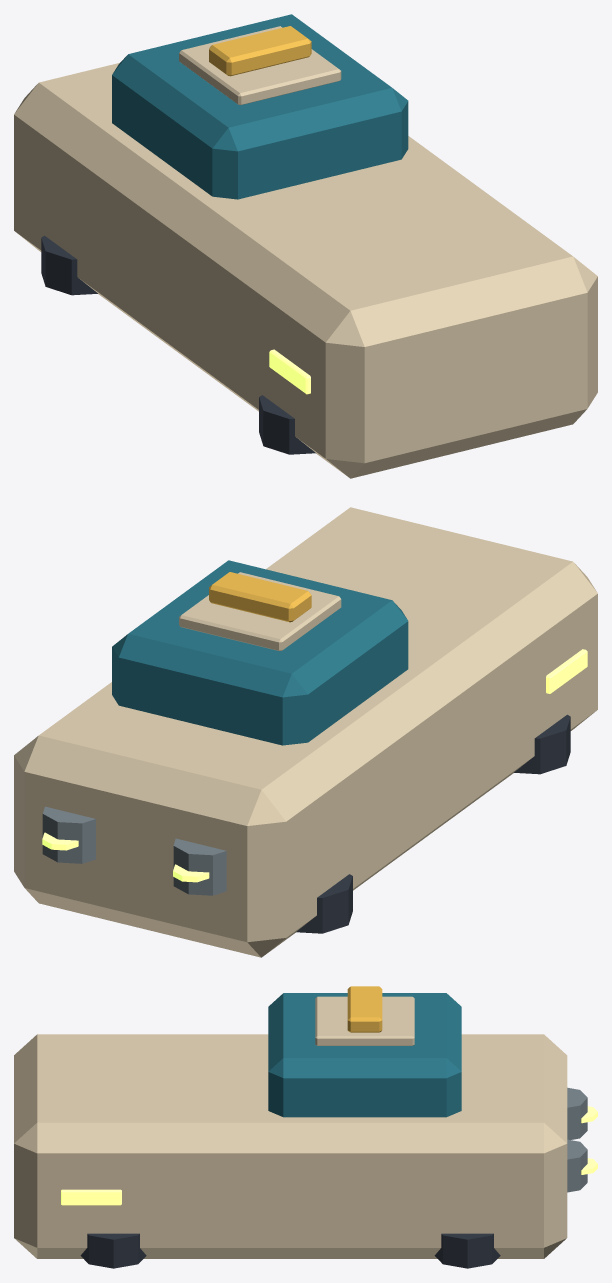
The model's file is vehicles_029_seed11.glb.
The picture shows the model from 3 angles, top to bottom: view 1: azimuth 30°, elevation 25°; view 2: azimuth 150°, elevation 25°; view 3: azimuth 270°, elevation 25°; orthographic projection. The views are drawn at different scales.
Visible parts, largest first — view 1: vehicles_029_seed11; view 2: vehicles_029_seed11; view 3: vehicles_029_seed11.
Part boxes in pixels (x1,y1,x2,y2): vehicles_029_seed11: (14,14,597,478); vehicles_029_seed11: (14,507,597,957); vehicles_029_seed11: (14,986,597,1268).
Bounding box in the file's own units: 1.96 × 1.62 × 4.02.
